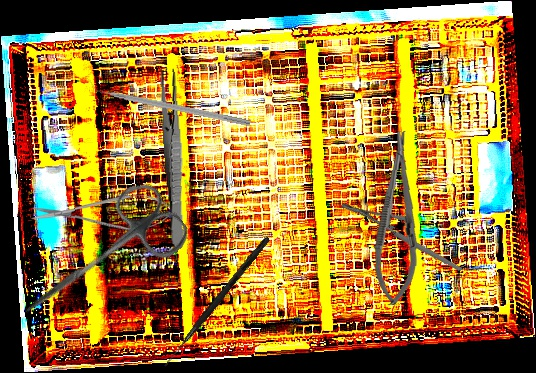Chopper: (85, 76, 253, 127)
Dressing Forceps: (158, 67, 189, 249)
Hook Surgical: (162, 234, 271, 370)
Iris Scissors: (3, 173, 195, 347)
Micro Scissor: (30, 192, 178, 233)
Needle Holder: (339, 172, 463, 303), (371, 129, 425, 307)
